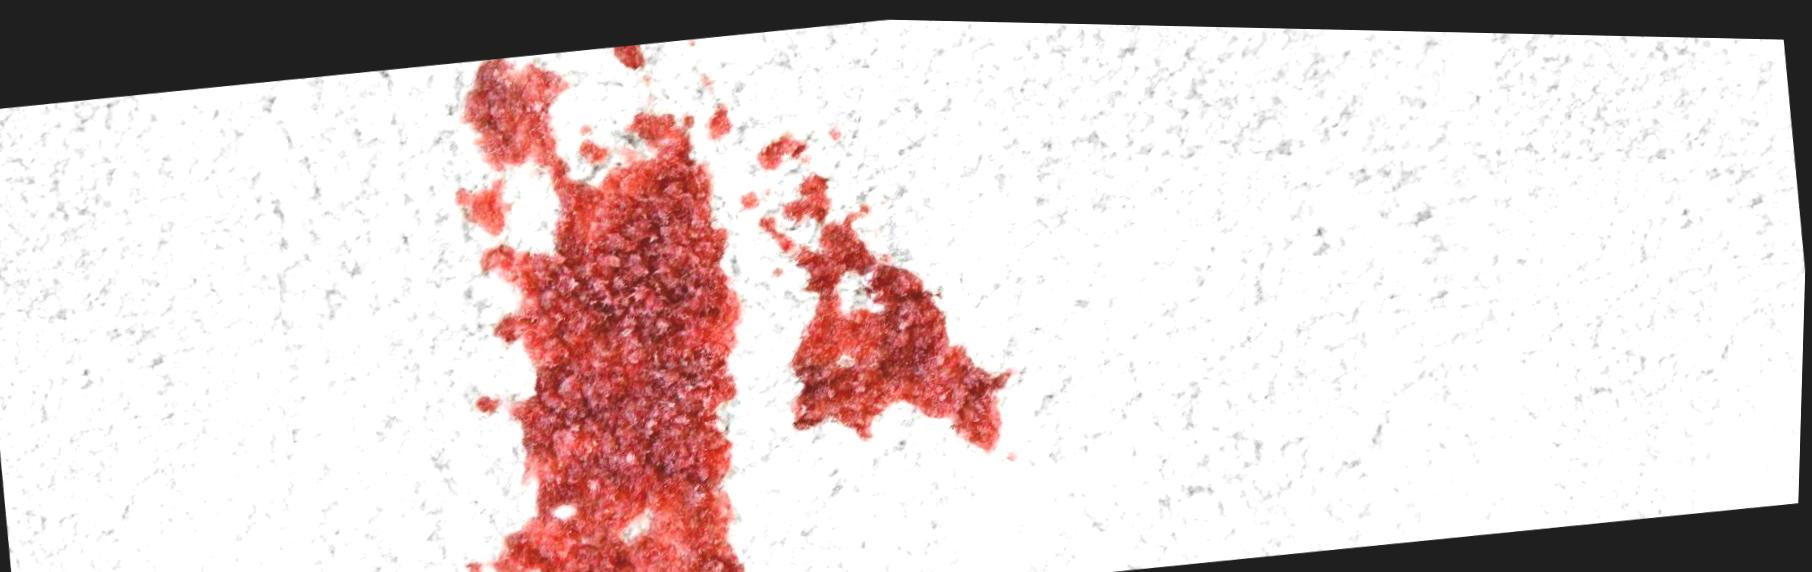Fire: (463, 55, 755, 572), (760, 168, 1018, 448), (454, 176, 513, 233), (757, 128, 809, 166), (706, 97, 734, 138), (580, 134, 610, 162), (476, 393, 504, 414)
